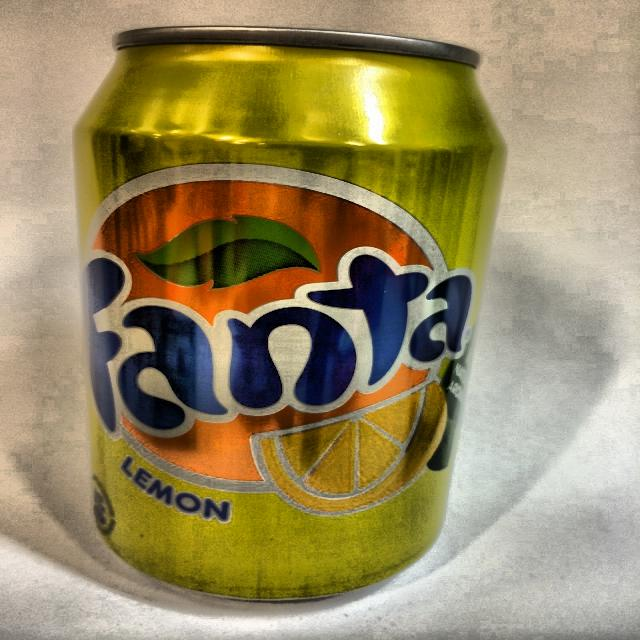Cans: (64, 14, 518, 616)
